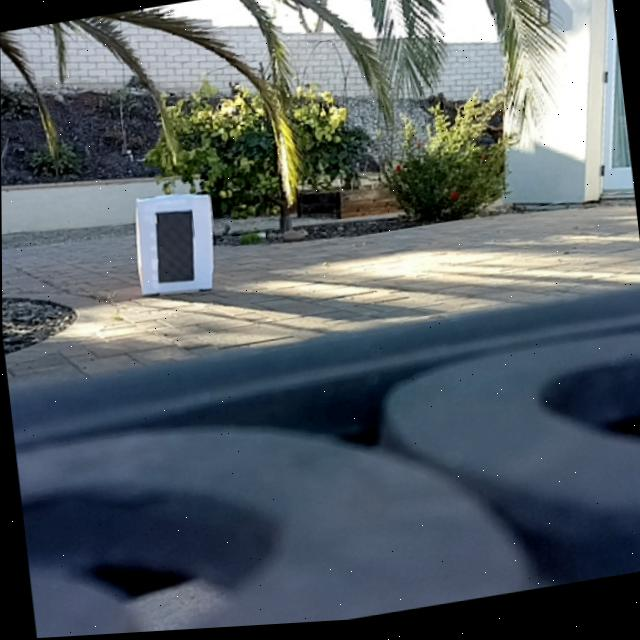led: (148, 205, 202, 292)
